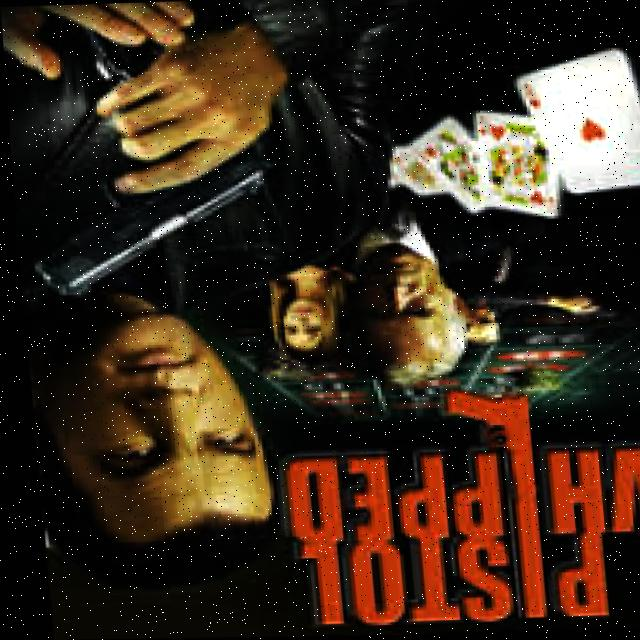pistol: (18, 150, 284, 293)
